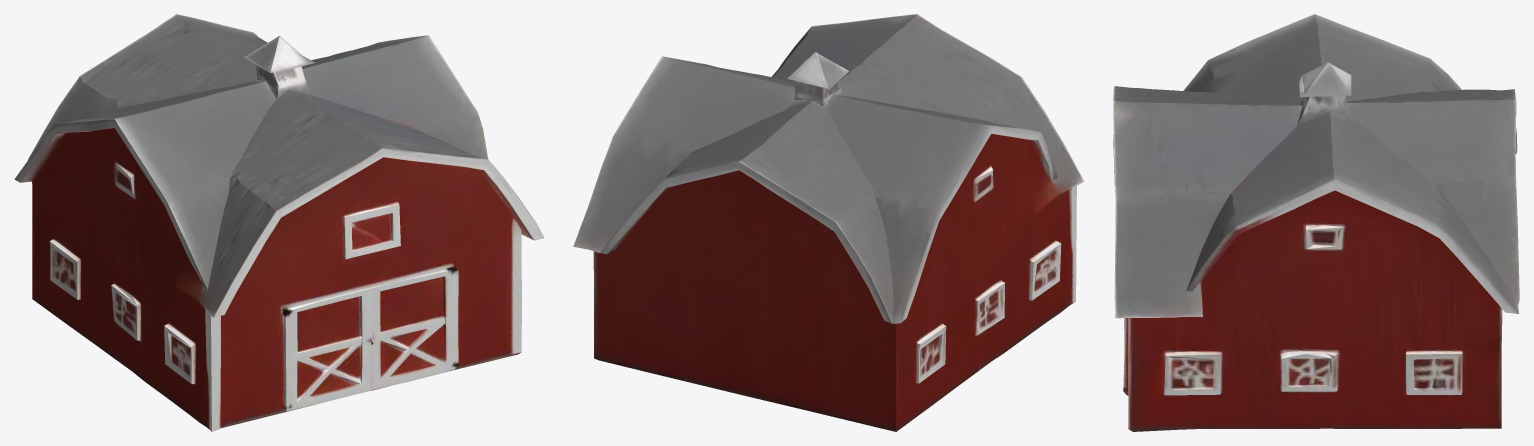
File: barn.glb
The picture shows the model from 3 angles, left to right: view 1: azimuth 30°, elevation 25°; view 2: azimuth 150°, elevation 25°; view 3: azimuth 270°, elevation 25°; orthographic projection. The views are drawn at different scales.
Visible parts, largest first — view 1: model; view 2: model; view 3: model.
Part boxes in pixels (x1,y1,x2,y2): model: (14,14,544,431); model: (573,14,1084,431); model: (1113,14,1519,431).
Bounding box in the file's own units: 1.88 × 1.52 × 1.89.
1 material, 1 textured.
